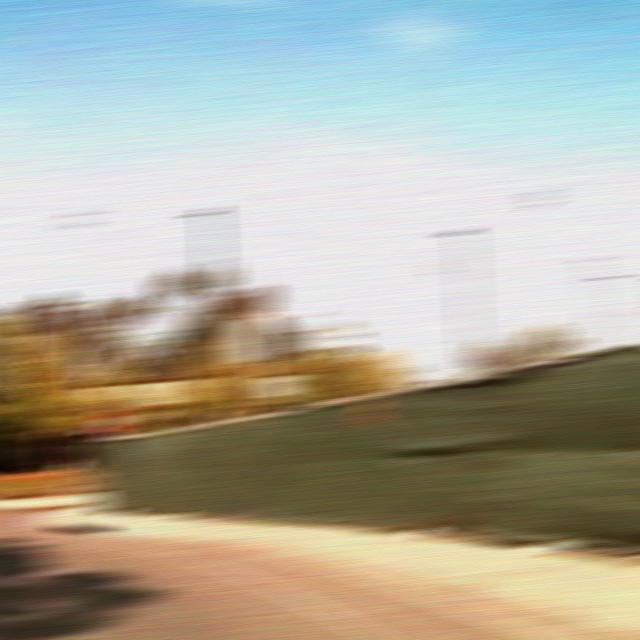stop: (94, 407, 129, 436)
